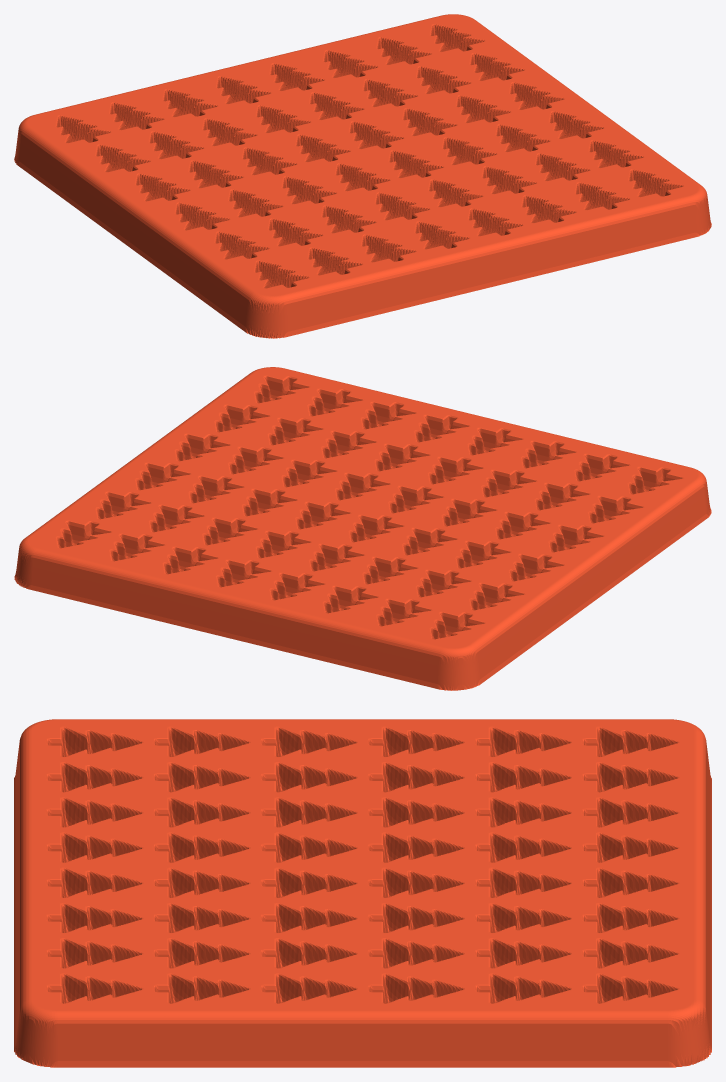
The model's file is mold.glb.
3 views of the same model, one above another, from view 1: azimuth 30°, elevation 25°; view 2: azimuth 150°, elevation 25°; view 3: azimuth 270°, elevation 25° (orthographic). The views are drawn at different scales.
Parts seen in each view (by area): view 1: geometry_0; view 2: geometry_0; view 3: geometry_0.
Part boxes in pixels (bbox=[...]): geometry_0: bbox=[14, 14, 711, 338]; geometry_0: bbox=[14, 367, 711, 690]; geometry_0: bbox=[14, 719, 711, 1067].
Size of the model in its own units: 0.1493 by 0.0114 by 0.1443.
